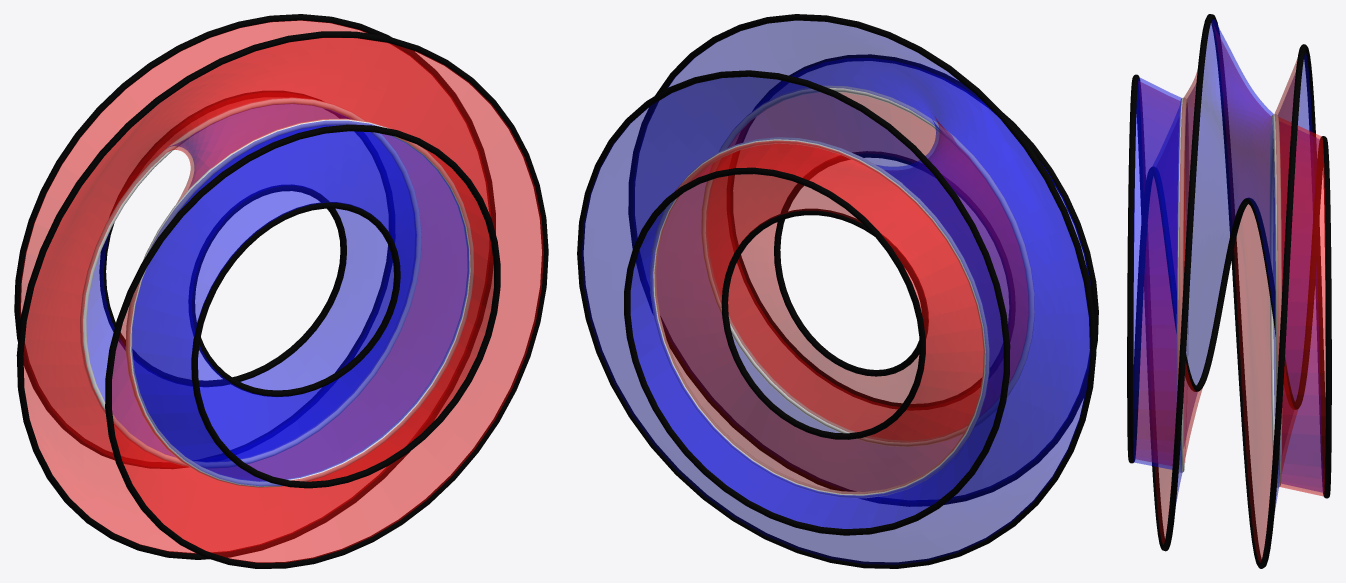
The model's file is l6_1_3_website.glb.
The picture shows the model from 3 angles, left to right: view 1: azimuth 30°, elevation 25°; view 2: azimuth 150°, elevation 25°; view 3: azimuth 270°, elevation 25°; orthographic projection. The views are drawn at different scales.
Parts seen in each view (by area): view 1: l6_1, boundary, singular_locus; view 2: l6_1, boundary, singular_locus; view 3: l6_1, boundary, singular_locus.
Part boxes in pixels (bbox=[...]): l6_1: bbox=[20, 20, 543, 562]; boundary: bbox=[14, 14, 548, 568]; singular_locus: bbox=[80, 97, 473, 487]; l6_1: bbox=[581, 20, 1091, 564]; boundary: bbox=[577, 14, 1098, 568]; singular_locus: bbox=[650, 85, 1034, 498]; l6_1: bbox=[1133, 19, 1325, 562]; boundary: bbox=[1127, 14, 1331, 568]; singular_locus: bbox=[1176, 97, 1282, 487].
Size of the model in its own units: 155 by 157 by 57.71.
